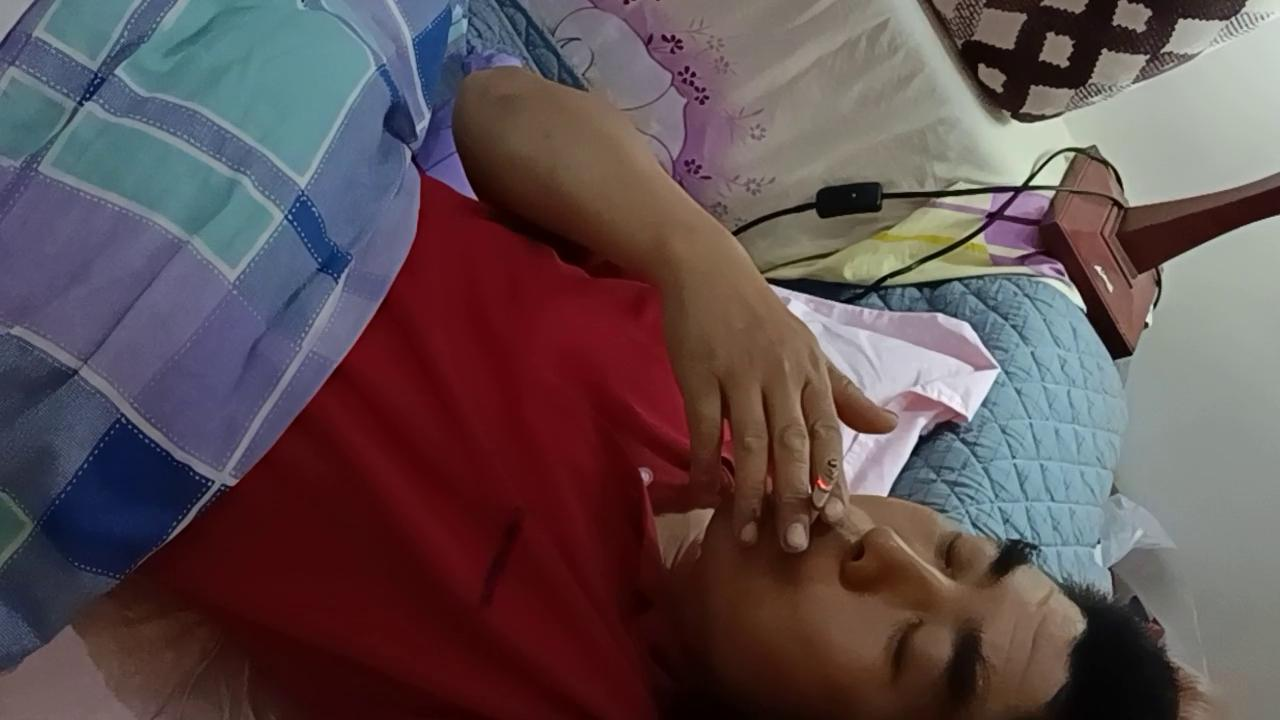smoke: (802, 457, 841, 529)
